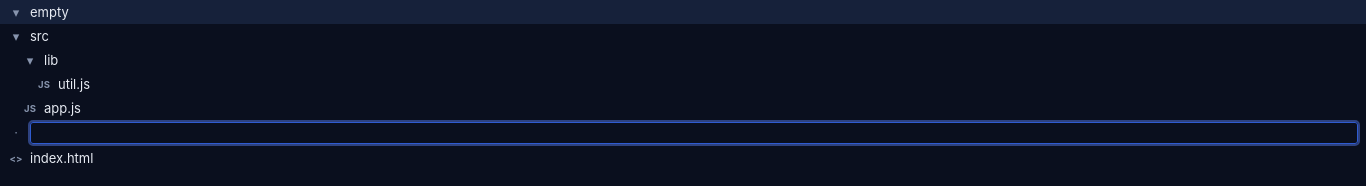
Test case: IDE building blocks › explorer creates and renames inside the tree like VS Code: inline name box, Enter / Esc, name checks
This screenshot has width=1366, height=186.
Later steps or results of the test are not shown.
Check: the text "empty" is shown, box [30,4,69,20]
Step 1. Type "index.html" into the field named "New file name" → [694, 133], box [30,122,1358,144]
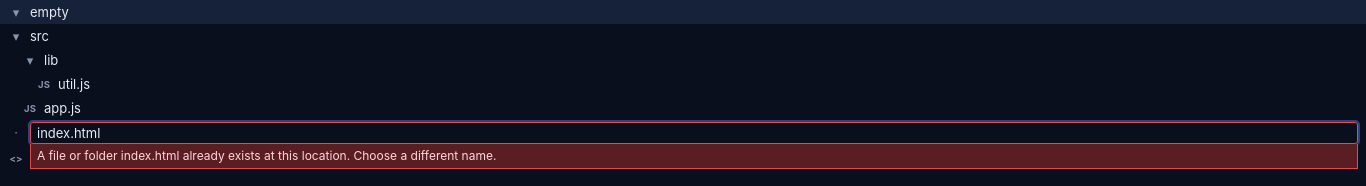
Check: the message shows "already exists at this location", box [37,148,496,163]
Step 2. Press Enter in the field named "New file name", box [30,122,1358,144]
Step 3. Replace the text in the field named "New file name" with "bad:name.js" → [694, 133], box [30,122,1358,144]
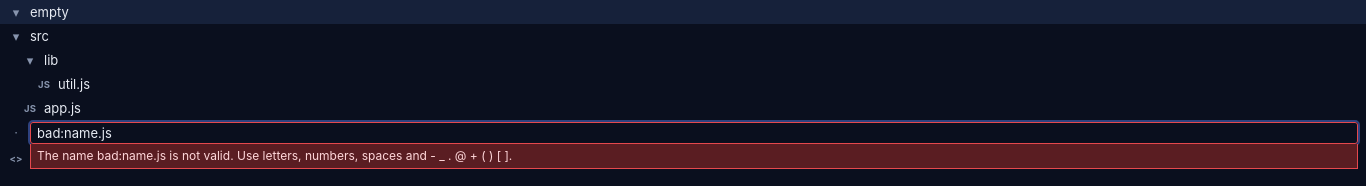
Check: the message shows "is not valid", box [37,148,512,163]
Step 4. Replace the text in the field named "New file name" with "main.py" → [694, 133], box [30,122,1358,144]
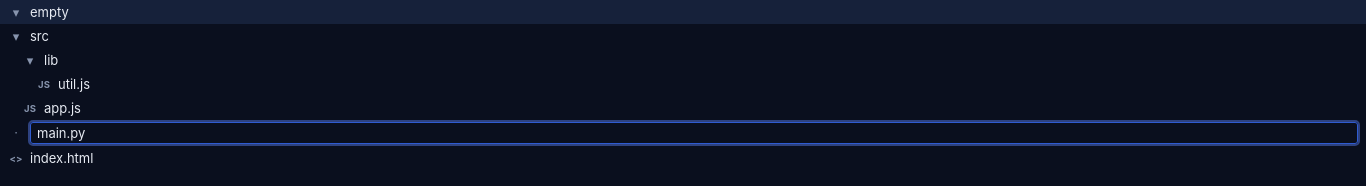
Check: the message "The name bad:name.js is not valid. Use letters, numbers, spaces and - _ . @ + (" is gone
